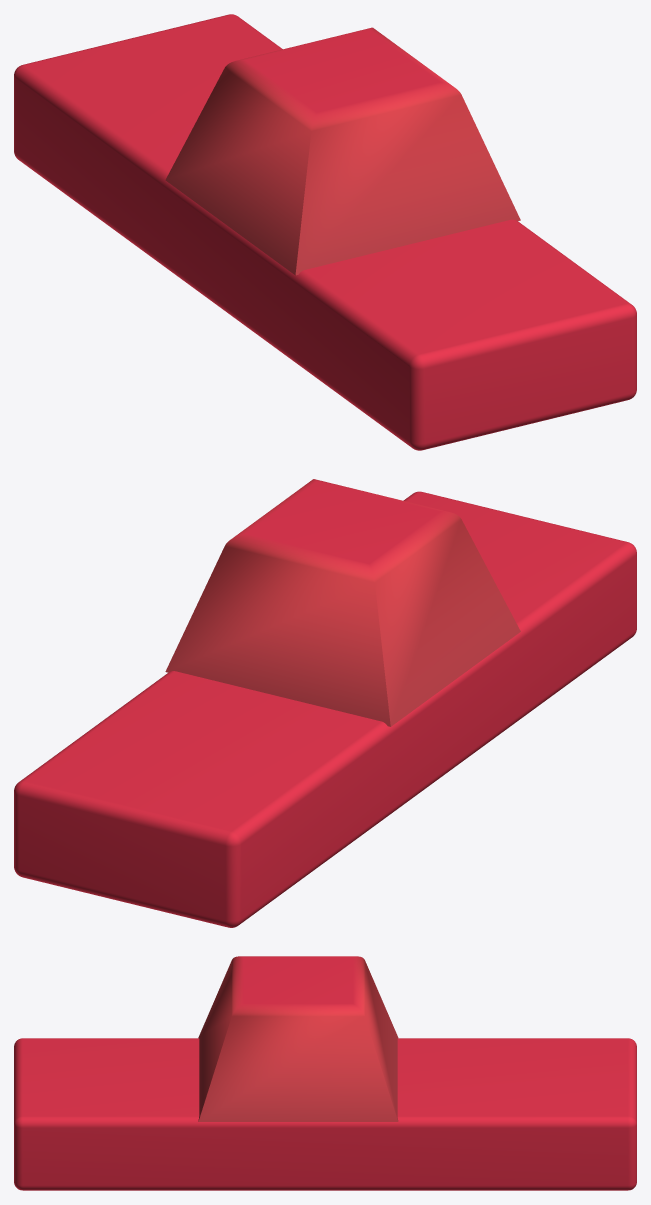
3 views of the same model, one above another, from view 1: azimuth 30°, elevation 25°; view 2: azimuth 150°, elevation 25°; view 3: azimuth 270°, elevation 25° (orthographic). The views are drawn at different scales.
Parts seen in each view (by area): view 1: deck, house; view 2: deck, house; view 3: deck, house.
Boxes of the visible parts, left/top/right/bottom form: deck: left=14, top=14, right=636, bottom=450; house: left=165, top=27, right=520, bottom=275; deck: left=14, top=491, right=636, bottom=927; house: left=165, top=479, right=520, bottom=726; deck: left=14, top=1038, right=636, bottom=1190; house: left=198, top=956, right=398, bottom=1121.
Bounding box in the file's own units: 0.4508 × 0.4233 × 1.4.
